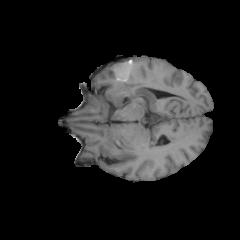glioma: (104, 57, 153, 105)
